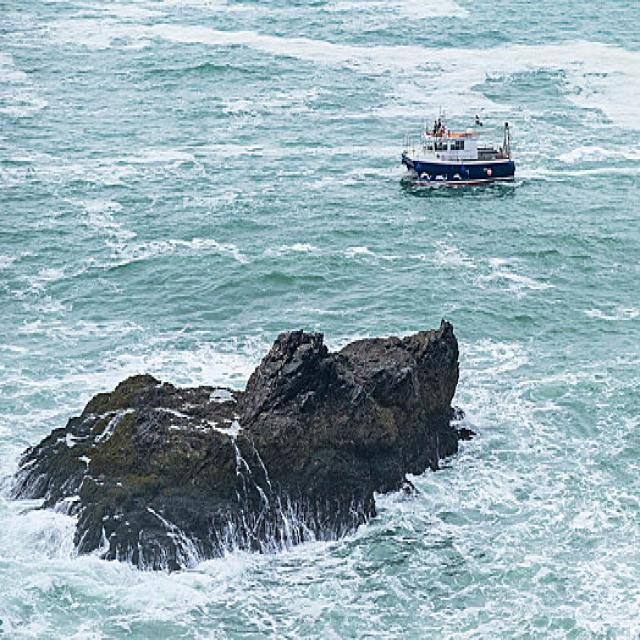reef: (24, 318, 467, 579)
